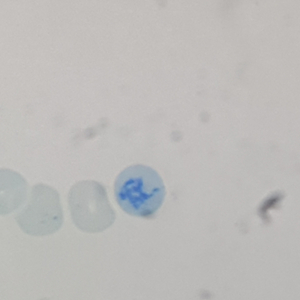aggregate reticulocyte: (111, 163, 168, 219)
erythrocyte: (64, 178, 119, 237)
punctate reticulocyte: (12, 181, 65, 237)
